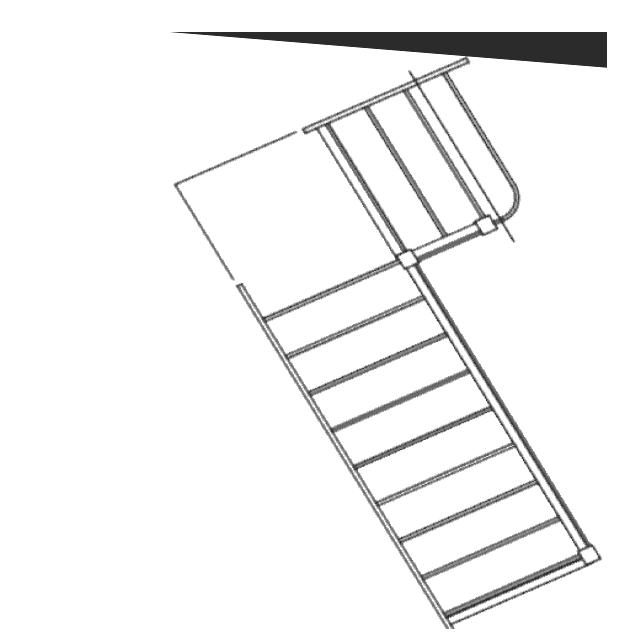stair: (167, 32, 607, 629)
